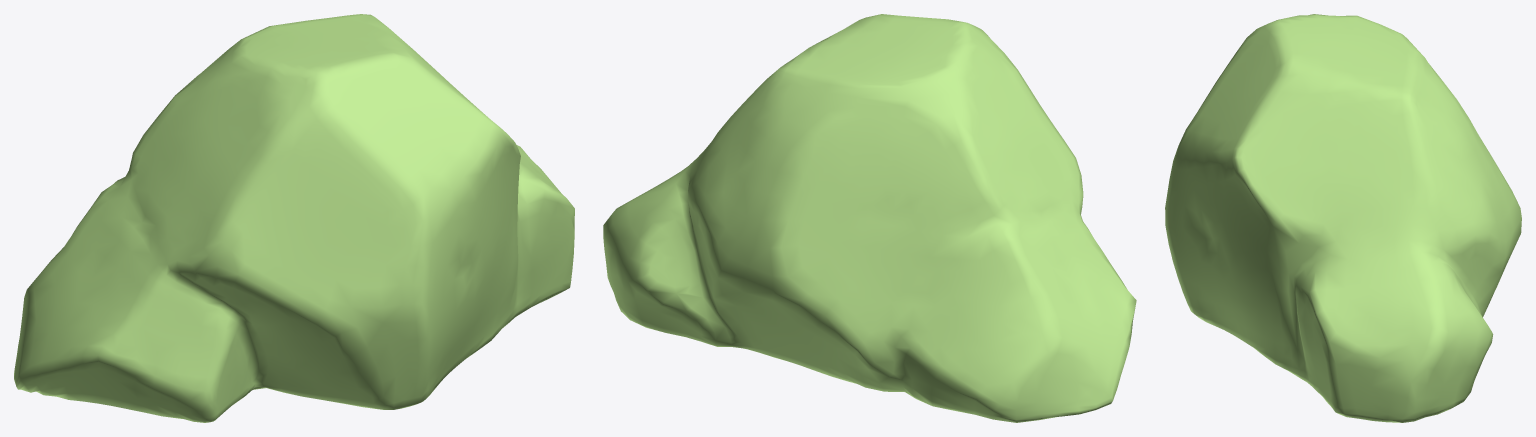
The model's file is rock2.fbx.
3 views of the same model, side by side, from view 1: azimuth 30°, elevation 25°; view 2: azimuth 150°, elevation 25°; view 3: azimuth 270°, elevation 25° (orthographic). The views are drawn at different scales.
Visible parts, largest first — view 1: PM3D_Sphere3D_1; view 2: PM3D_Sphere3D_1; view 3: PM3D_Sphere3D_1.
Part boxes in pixels (x1,y1,x2,y2): PM3D_Sphere3D_1: [14, 14, 574, 422]; PM3D_Sphere3D_1: [603, 14, 1136, 422]; PM3D_Sphere3D_1: [1165, 14, 1521, 422].
Bounding box in the file's own units: 4.69 × 2.56 × 3.04.
